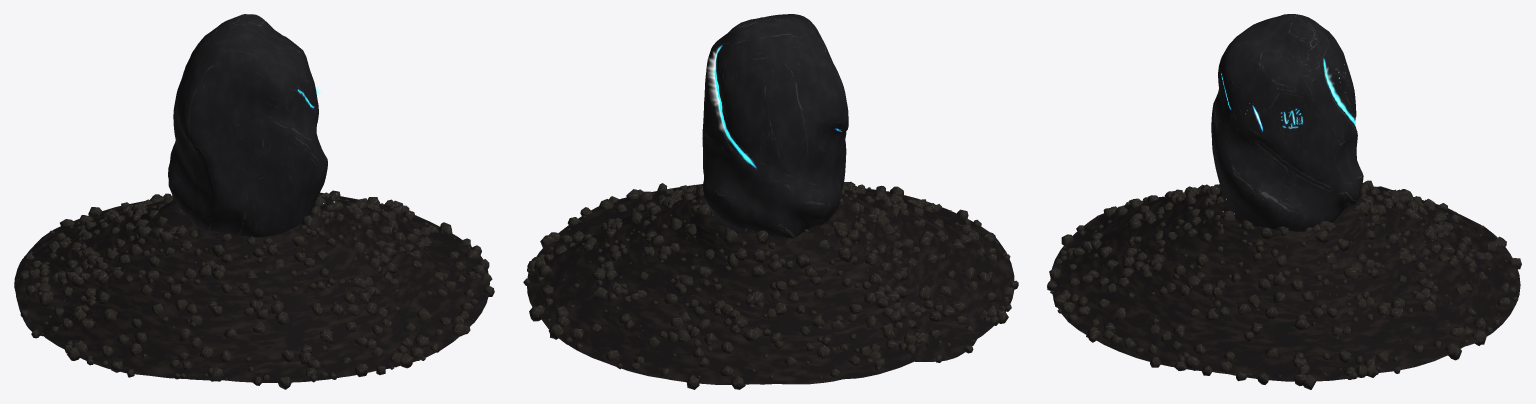
The model's file is rune1.glb.
3 renders of one model, left to right at view 1: azimuth 30°, elevation 25°; view 2: azimuth 150°, elevation 25°; view 3: azimuth 270°, elevation 25°, orthographic. The views are drawn at different scales.
Visible parts, largest first — view 1: Ground_7, Rune_9, Pebbles_8; view 2: Ground_7, Rune_9, Pebbles_8; view 3: Ground_7, Rune_9, Pebbles_8.
Part boxes in pixels (x1=…): Ground_7: x1=14, y1=192, x2=489, y2=382; Rune_9: x1=168, y1=14, x2=355, y2=237; Pebbles_8: x1=16, y1=190, x2=494, y2=389; Ground_7: x1=527, y1=184, x2=1014, y2=384; Rune_9: x1=699, y1=14, x2=848, y2=238; Pebbles_8: x1=523, y1=181, x2=1018, y2=389; Ground_7: x1=1050, y1=186, x2=1520, y2=381; Rune_9: x1=1211, y1=14, x2=1363, y2=231; Pebbles_8: x1=1047, y1=180, x2=1521, y2=389.
Size of the model in its own units: 8.44 by 5.25 by 8.36.
4 materials, 4 textured.
